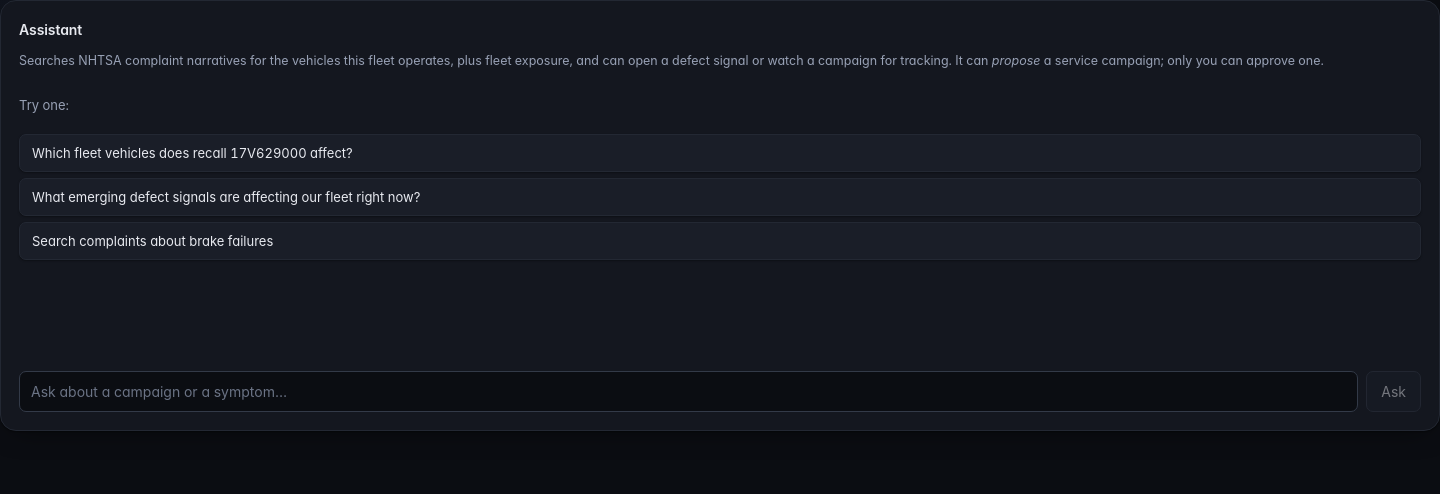
Assistant › shows the offline message on a 503, not a raw error
Type "hello" into the field with placeholder "Ask about a campaign or a symptom…" at (689, 391), box [19,371,1358,412]
Then press Enter
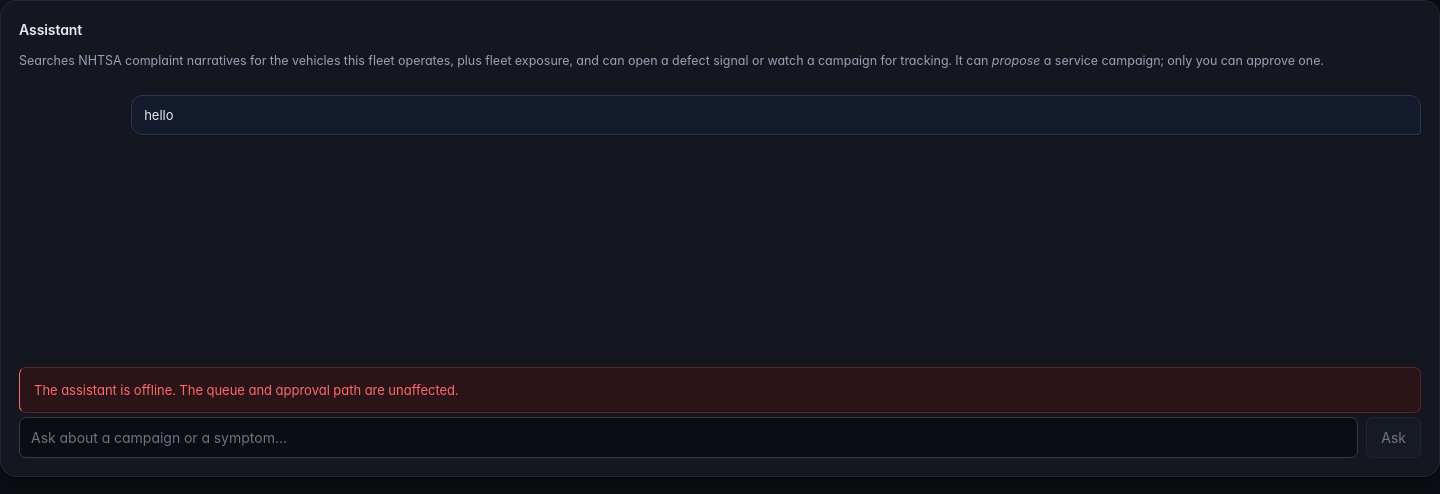
Expected: the text "The assistant is offline. The queue and approval path are unaffected." is shown, [19,367,1421,413]
